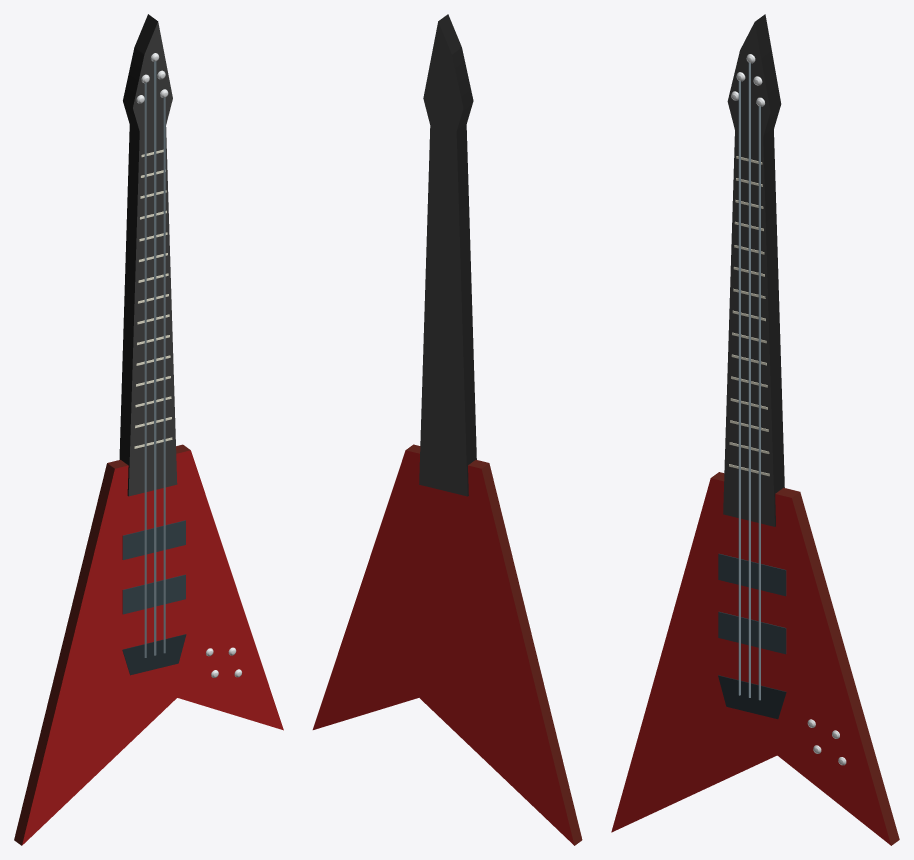
The model's file is rocker.fbx.
3 views of the same model, side by side, from view 1: azimuth 30°, elevation 25°; view 2: azimuth 150°, elevation 25°; view 3: azimuth 330°, elevation 25° (orthographic). The views are drawn at different scales.
Parts seen in each view (by area): view 1: guitar; view 2: guitar; view 3: guitar.
Part boxes in pixels (bbox=[...]): guitar: bbox=[14, 14, 283, 845]; guitar: bbox=[312, 14, 582, 845]; guitar: bbox=[611, 14, 899, 845].
Bounding box in the file's own units: 109 × 315 × 8.57.
